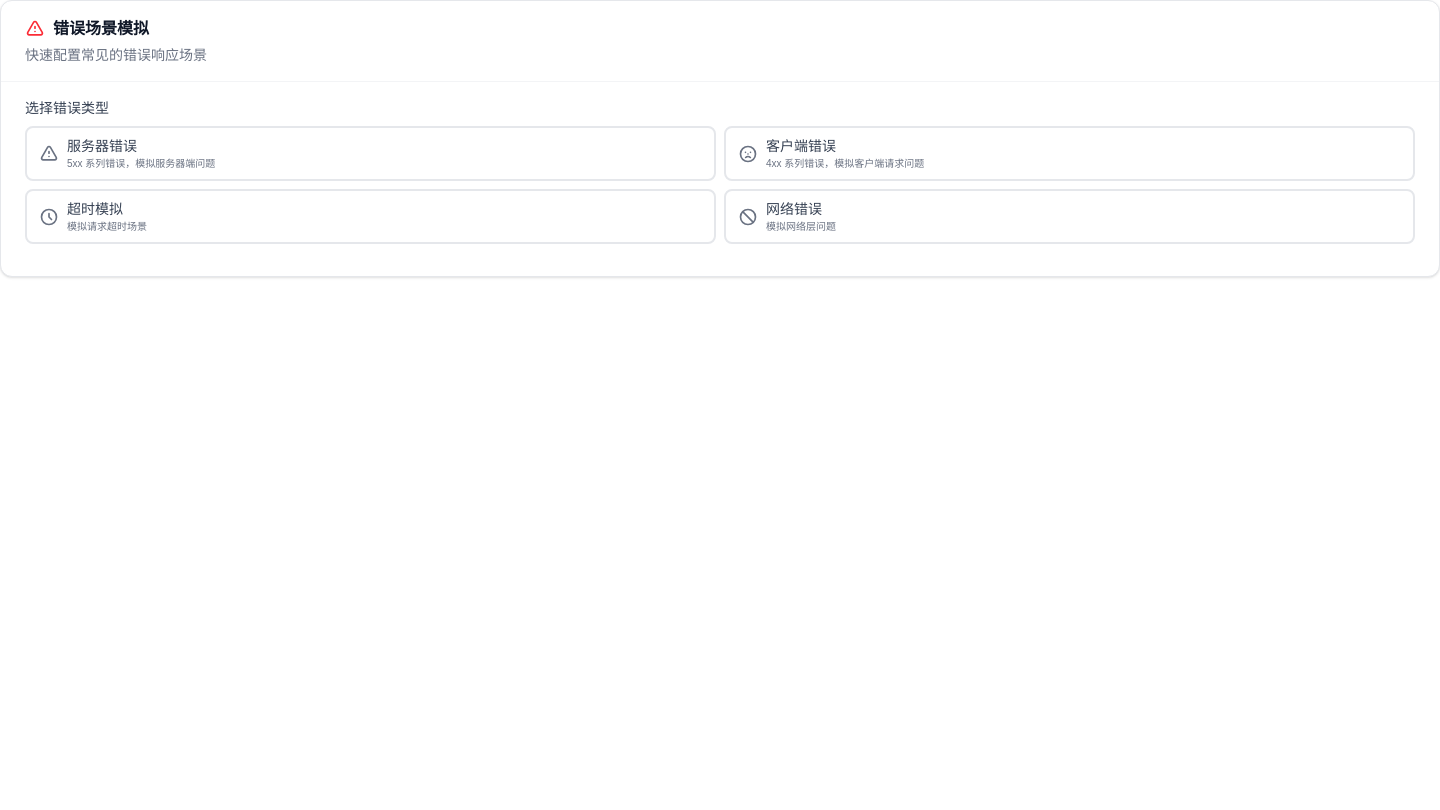
it: ErrorScenariosSelector › should show preview dialog when scenario is clicked
Click the button "服务器错误 5xx 系列错误，模拟服务器端问题" at [102, 146], box [25, 126, 716, 181]
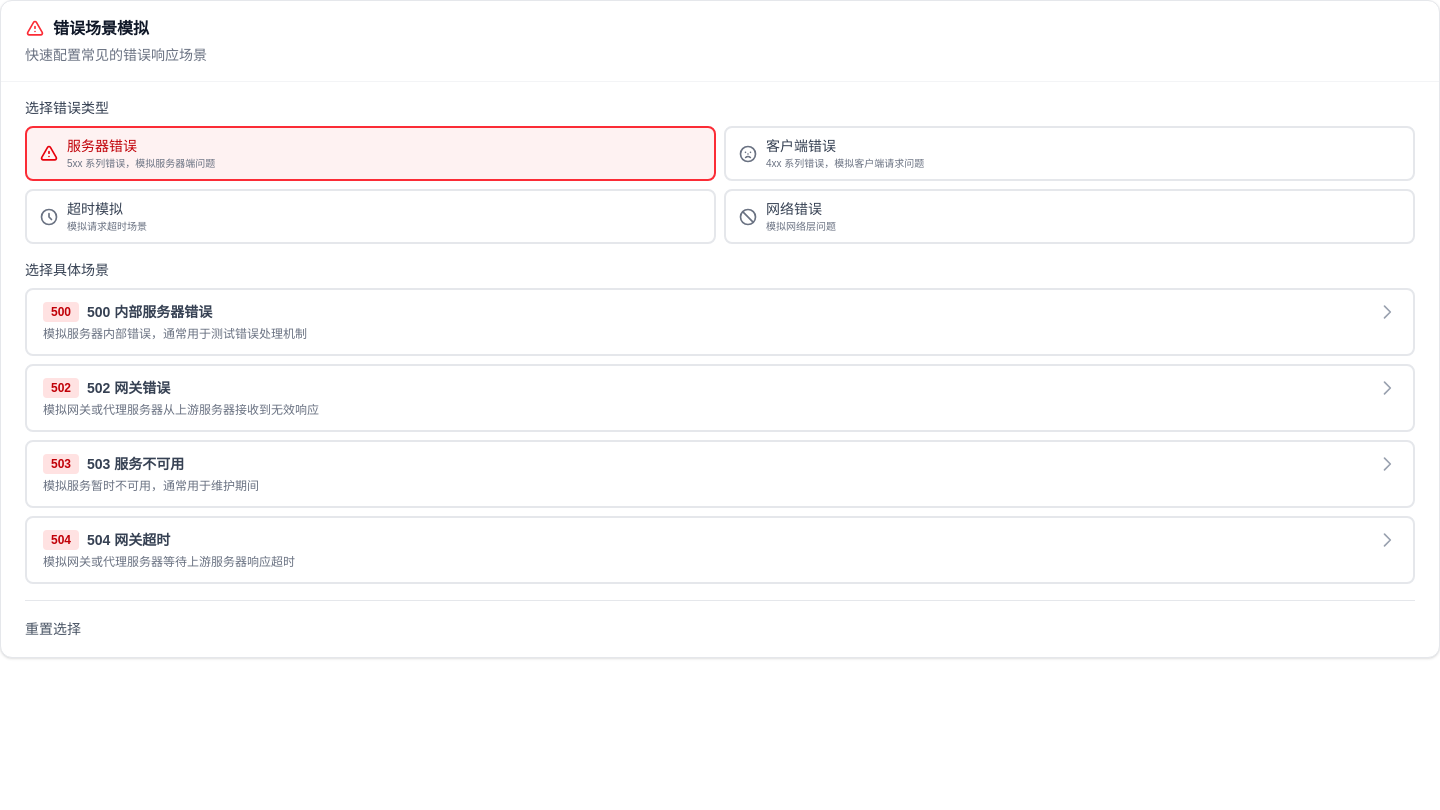
Click the button "500 500 内部服务器错误 模拟服务器内部错误，通常用于测试错误处理机制" at [61, 312], box [25, 288, 1415, 356]
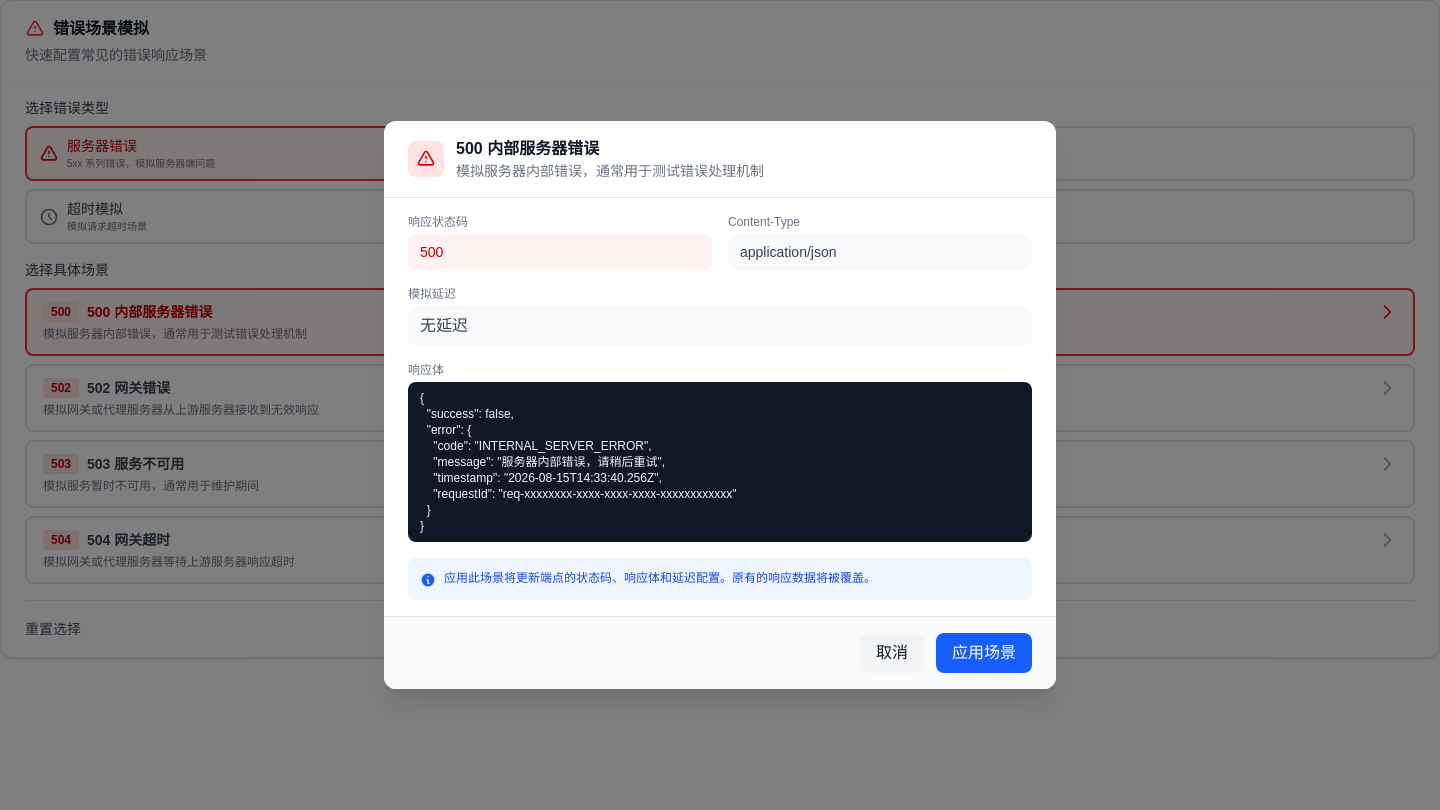
Expected: the heading "500 内部服务器错误" is shown, [456, 140, 599, 157]
